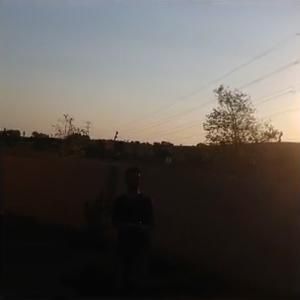follow: (109, 168, 160, 298)
